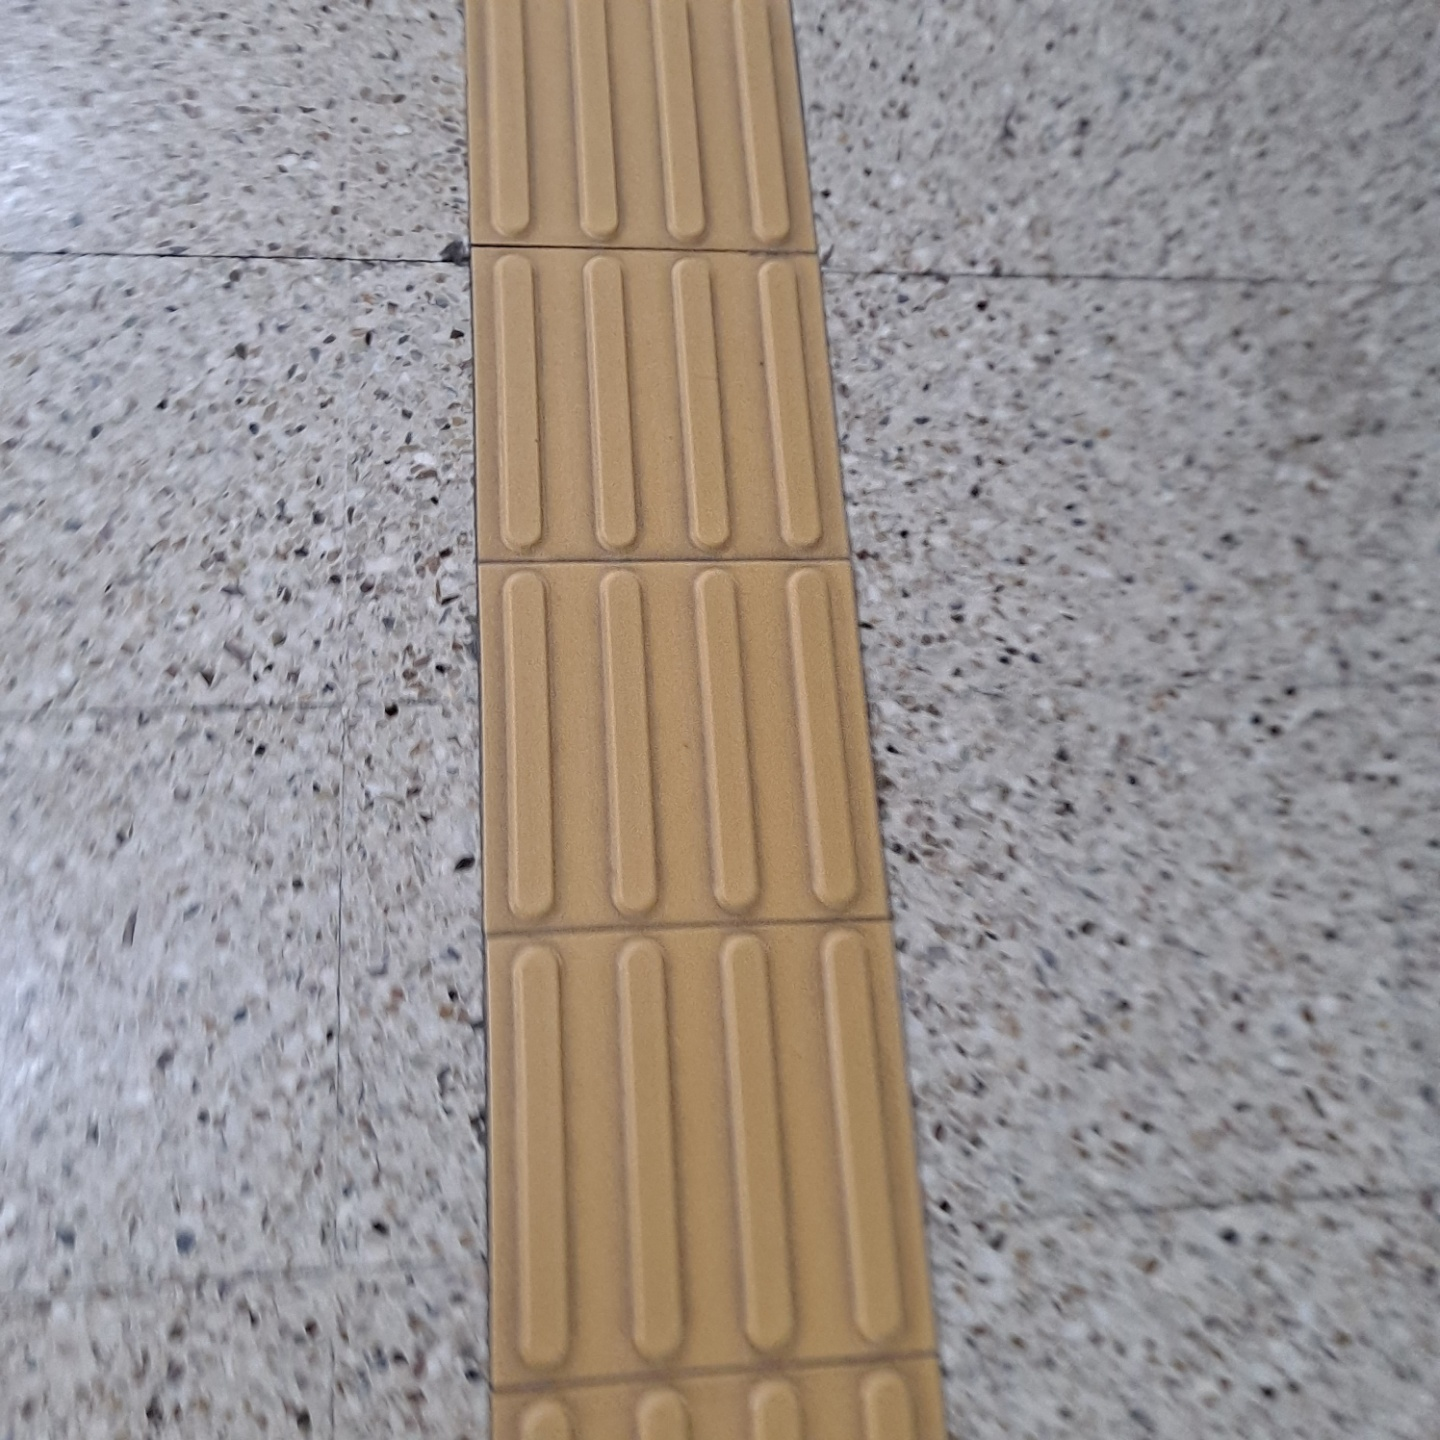guideBlock: (500, 935, 952, 1383), (465, 582, 889, 909), (454, 247, 857, 556), (455, 11, 804, 251)
